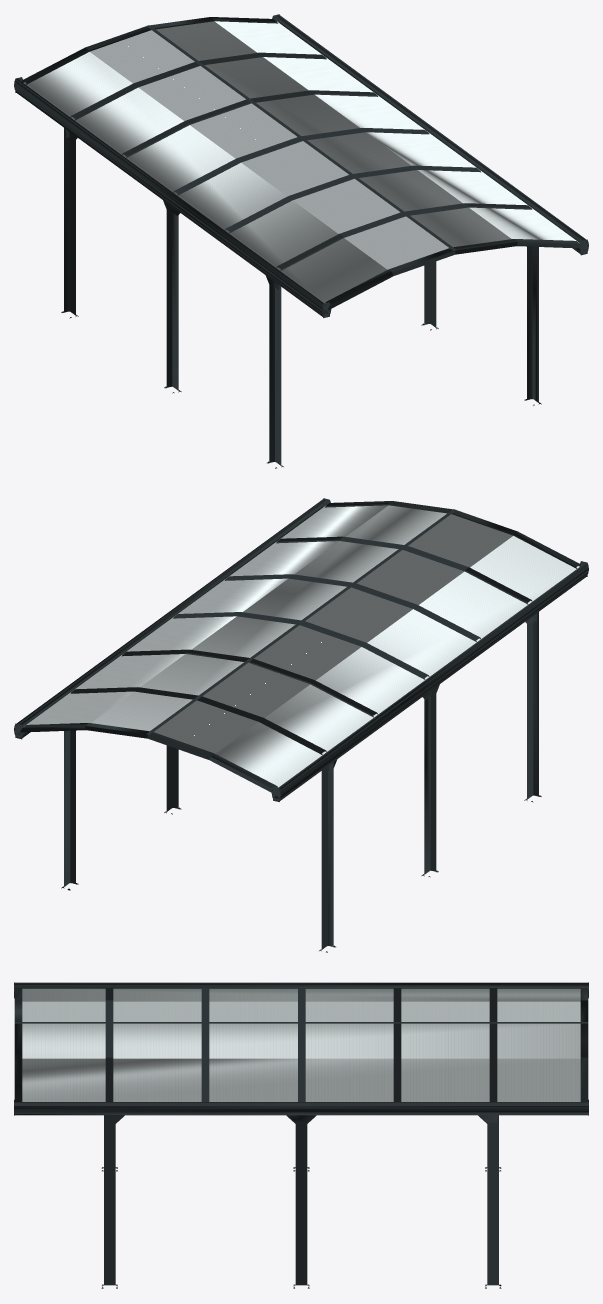
3 renders of one model, top to bottom at view 1: azimuth 30°, elevation 25°; view 2: azimuth 150°, elevation 25°; view 3: azimuth 270°, elevation 25°, orthographic. The views are drawn at different scales.
Parts seen in each view (by area): view 1: priximbattable_net_abris_de_voiture_364_carport_aluminium_ci; view 2: priximbattable_net_abris_de_voiture_364_carport_aluminium_ci; view 3: priximbattable_net_abris_de_voiture_364_carport_aluminium_ci.
Part boxes in pixels (<box>): priximbattable_net_abris_de_voiture_364_carport_aluminium_ci: <box>14,14,588,468</box>; priximbattable_net_abris_de_voiture_364_carport_aluminium_ci: <box>14,498,588,952</box>; priximbattable_net_abris_de_voiture_364_carport_aluminium_ci: <box>14,982,588,1288</box>.
Bounding box in the file's own units: 300 × 237 × 600.
Materials: 1 (1 with a texture image).
